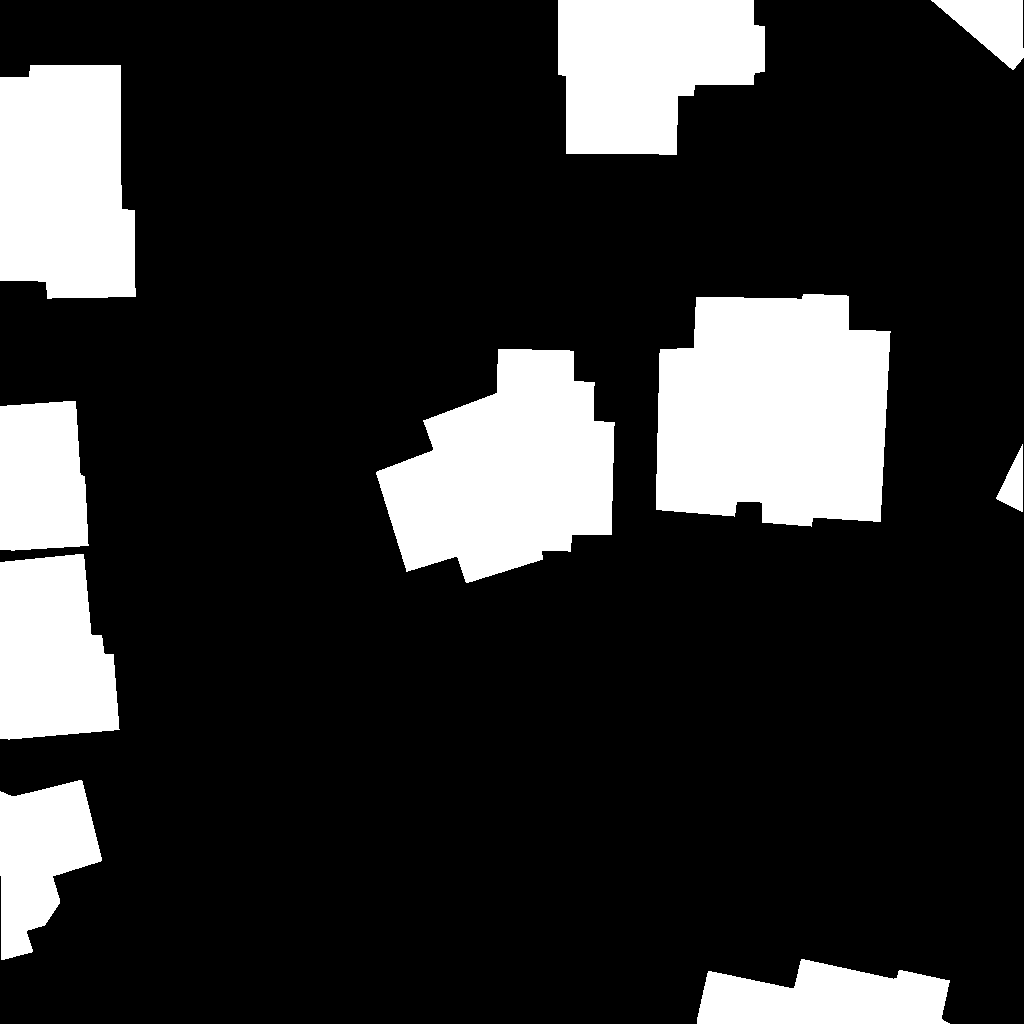building: (376, 349, 615, 584), (656, 294, 891, 527), (558, 0, 765, 155), (0, 65, 136, 299), (0, 554, 120, 740), (0, 780, 103, 961), (697, 959, 951, 1024), (0, 401, 89, 551), (931, 0, 1024, 71), (996, 443, 1024, 513)
